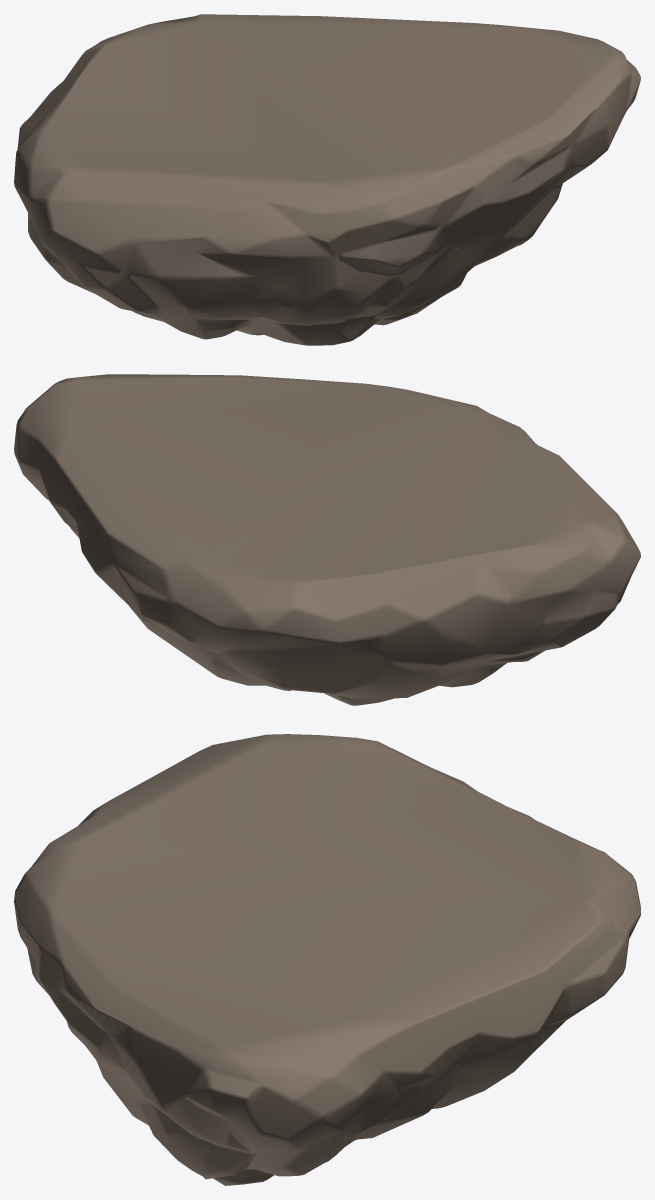
File: IlhaM4.fbx
3 renders of one model, top to bottom at view 1: azimuth 30°, elevation 25°; view 2: azimuth 150°, elevation 25°; view 3: azimuth 270°, elevation 25°, orthographic. The views are drawn at different scales.
Visible parts, largest first — view 1: Ilham4; view 2: Ilham4; view 3: Ilham4.
Boxes of the visible parts, <box> form: Ilham4: <box>14,14,640,345</box>; Ilham4: <box>14,374,640,705</box>; Ilham4: <box>14,734,640,1185</box>.
Bounding box in the file's own units: 3252 × 1154 × 2463.
